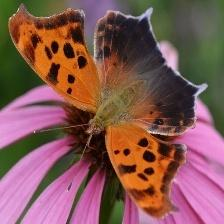butterfly: (8, 4, 208, 219)
